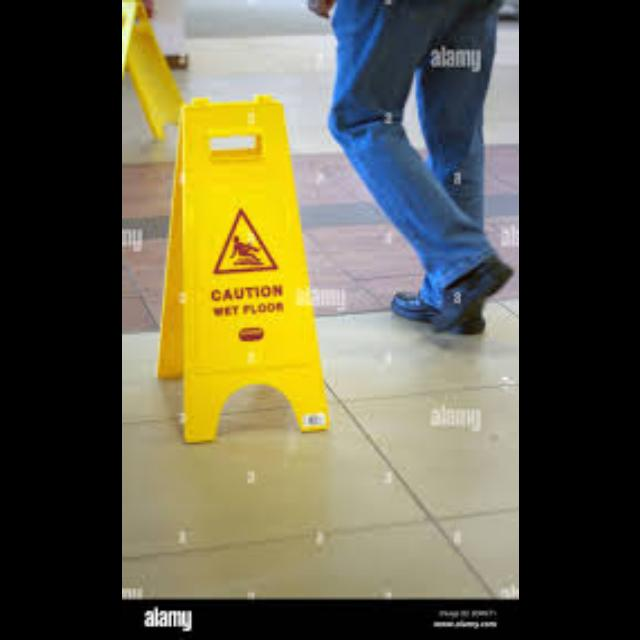tron truot: (157, 94, 328, 440)
